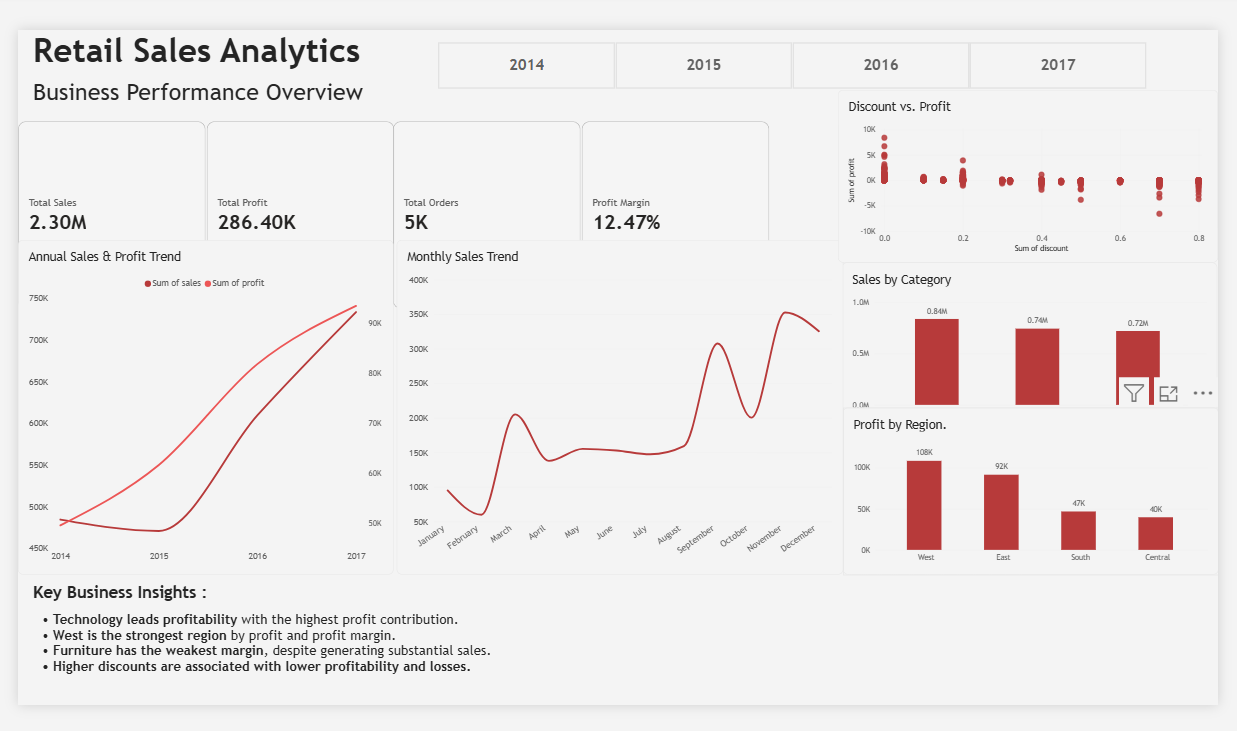

What the dashboard file says about the page in this screenshot:
{"tool":"powerbi","page":{"name":"Executive Overview","canvas":[1920,1080],"ordinal":0},"visuals":[{"type":"cardVisual","title":"Total Sales","fields":{"Data":["Sum(retail_sales_analysis retail_sales.sales)"]},"box":[0,145.4,300,300],"z":0},{"type":"cardVisual","fields":{"Data":["Sum(retail_sales_analysis retail_sales.profit)"]},"box":[301.5,145.4,300,300],"z":1000},{"type":"cardVisual","fields":{"Data":["retail_sales_analysis retail_sales.Total Orders"]},"box":[600.8,145.4,300.5,300.5],"z":2000},{"type":"cardVisual","fields":{"Data":["retail_sales_analysis retail_sales.Profit Margin"]},"box":[902.3,145.4,300,300],"z":3000},{"type":"lineChart","title":"Annual Sales & Profit Trend","fields":{"Category":["retail_sales_analysis retail_sales.order_date.Variation.Date Hierarchy.Year","retail_sales_analysis retail_sales.order_date.Variation.Date Hierarchy.Month"],"Y":["Sum(retail_sales_analysis retail_sales.sales)"],"Y2":["Sum(retail_sales_analysis retail_sales.profit)"]},"box":[0,336.1,601,535.2],"z":4000},{"type":"clusteredColumnChart","title":"Sales by Category","fields":{"Category":["retail_sales_analysis retail_sales.category"],"Y":["Sum(retail_sales_analysis retail_sales.sales)"]},"box":[1318,372,601,267.6],"z":5000},{"type":"clusteredColumnChart","title":"Profit by Region.","fields":{"Category":["retail_sales_analysis retail_sales.region"],"Y":["Sum(retail_sales_analysis retail_sales.profit)"]},"box":[1320,604,601,267.6],"z":6000},{"type":"lineChart","title":"Monthly Sales Trend","fields":{"Category":["retail_sales_analysis retail_sales.order_date.Variation.Date Hierarchy.Year","retail_sales_analysis retail_sales.order_date.Variation.Date Hierarchy.Month"],"Y":["Sum(retail_sales_analysis retail_sales.sales)"]},"box":[606,336,714.2,535.2],"z":7000},{"type":"textbox","box":[23.5,0,553.8,224.5],"z":8000},{"type":"slicer","fields":{"Values":["retail_sales_analysis retail_sales.order_date.Variation.Date Hierarchy.Year"]},"box":[652.1,17.1,1171.7,77.4],"z":8001},{"type":"textbox","box":[23.5,77,577.3,295.1],"z":8002},{"type":"textbox","box":[23.9,884.6,818.9,194.6],"z":8003},{"type":"scatterChart","title":"Discount vs. Profit","fields":{"Category":["retail_sales_analysis retail_sales.row_id"],"X":["Sum(retail_sales_analysis retail_sales.discount)"],"Y":["Sum(retail_sales_analysis retail_sales.profit)"]},"box":[1312,96,608,276],"z":8004}]}

Visuals, with their boxes on the page's 1920x1080 design canvas (x1, y1, x2, y2). These are canvas units, not pixel positions in the 1237x731 screenshot, which may show the page scaled, cropped or inside an application window:
"Total Sales" cardVisual: BBox(0, 145, 300, 445)
cardVisual - Sum(retail_sales_analysis retail_sales.profit): BBox(302, 145, 602, 445)
cardVisual - retail_sales_analysis retail_sales.Total Orders: BBox(601, 145, 901, 446)
cardVisual - retail_sales_analysis retail_sales.Profit Margin: BBox(902, 145, 1202, 445)
"Annual Sales & Profit Trend" lineChart: BBox(0, 336, 601, 871)
"Sales by Category" clusteredColumnChart: BBox(1318, 372, 1919, 640)
"Profit by Region." clusteredColumnChart: BBox(1320, 604, 1921, 872)
"Monthly Sales Trend" lineChart: BBox(606, 336, 1320, 871)
textbox: BBox(24, 0, 577, 224)
slicer - retail_sales_analysis retail_sales.order_date.Variation.Date Hierarchy.Year: BBox(652, 17, 1824, 94)
textbox: BBox(24, 77, 601, 372)
textbox: BBox(24, 885, 843, 1079)
"Discount vs. Profit" scatterChart: BBox(1312, 96, 1920, 372)
